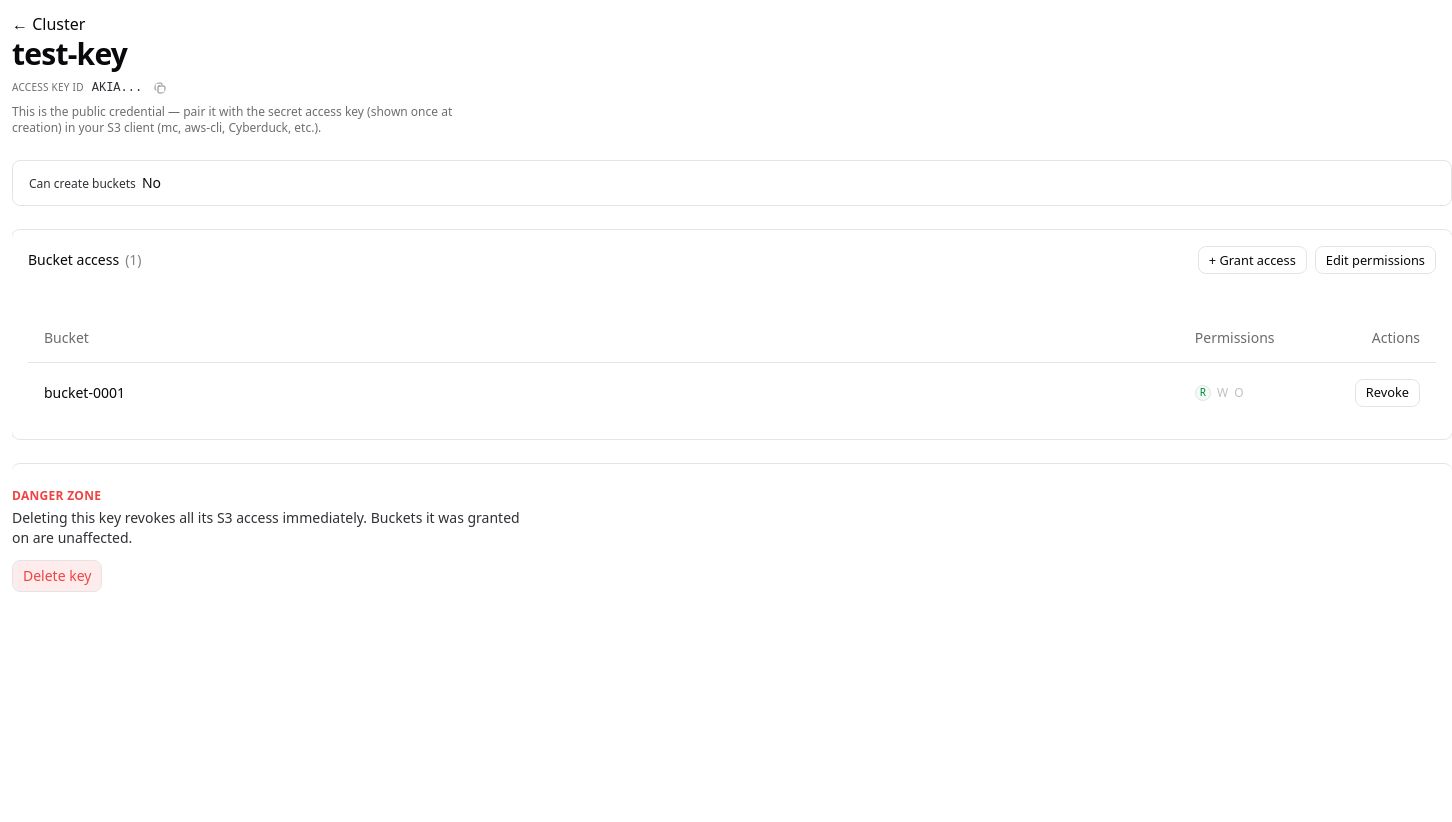
/admin/clusters/$cid/keys/$id — paginated permissions (v1.4.0b) › filter narrows the visible bucket list
Click the button "Edit permissions" at (1375, 260), box [1315,246,1436,274]
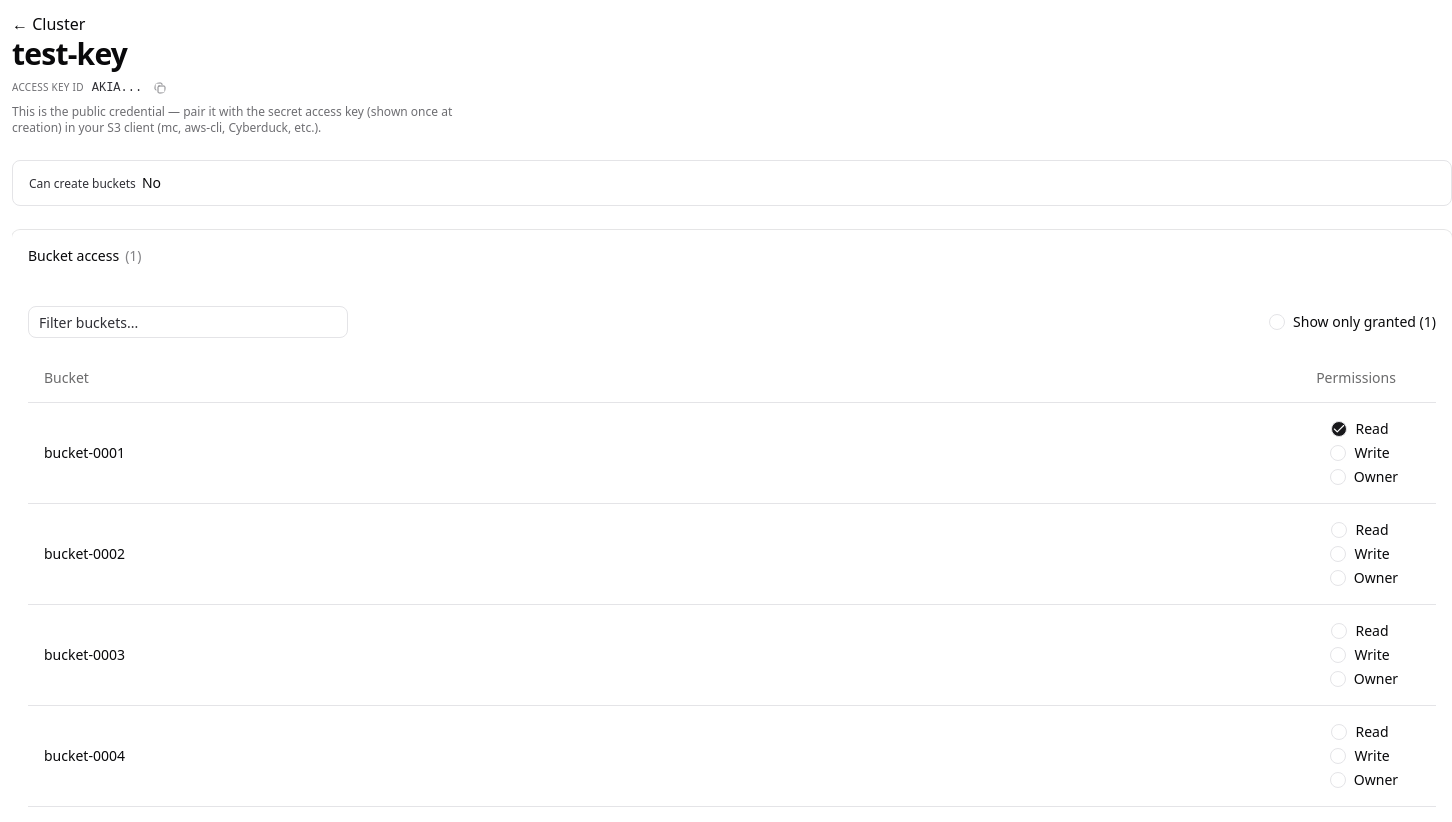
Expected: the text "bucket-0001" is shown, [44,442,125,462]
Expected: the text "bucket-0099" is not shown
// Type a narrow filter — only bucket-0099 matches.
Type "bucket-0099" into the search field with test id "key-perms-filter" at (188, 322), box [28,306,348,338]
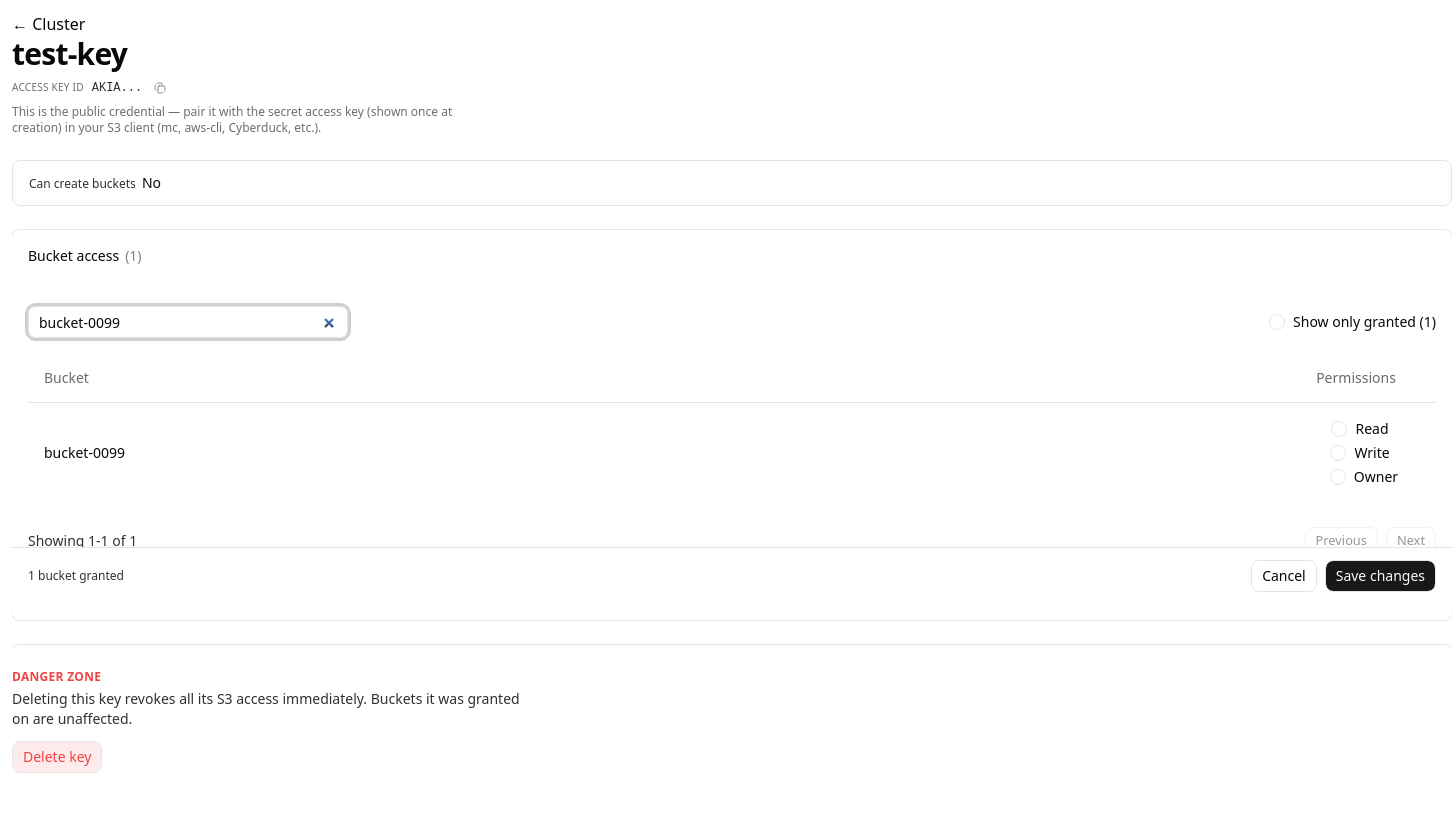
Now the text "bucket-0099" is shown, box [44,442,125,462]
Now the text "bucket-0001" is gone
Now the text with test id "key-perms-page-indicator" reads "Showing 1-1 of 1", box [28,530,137,550]
